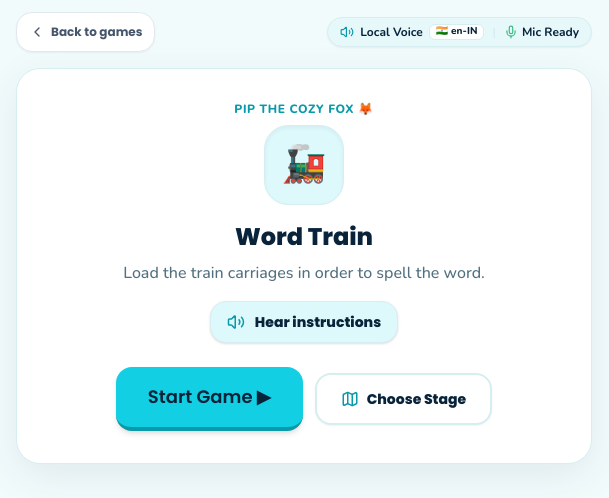
Test: Word Train Game Suite (/child/games/word-train) › 11. undoes a specific placed letter by clicking its train carriage slot directly
The width and height of the screenshot is (609, 498).
Click the button "Start Game ▶" at (209, 399), box [116,367,303,431]
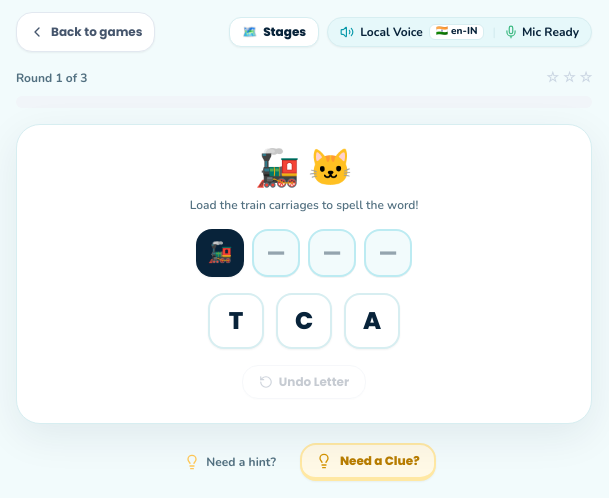
# Place C, then A
Click the button named "Carriage C" at (304, 321), box [276,293,332,349]
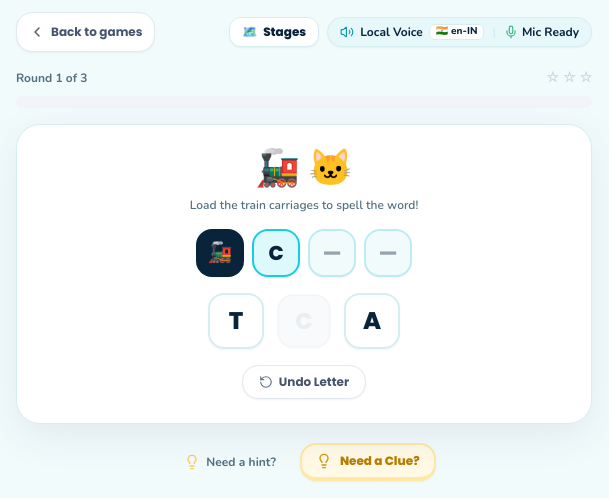
Click the button named "Carriage A" at (372, 321), box [344,293,400,349]
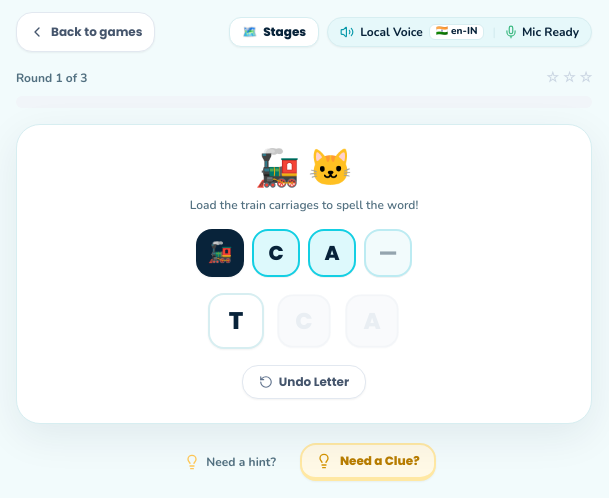
Result: the button named "Slot 1: C" is shown
Result: the button named "Slot 2: A" is shown at [308,229,356,277]
# Click slot 1 (C) directly to remove it
Click the button named "Slot 1: C" at (276, 253), box [252,229,300,277]
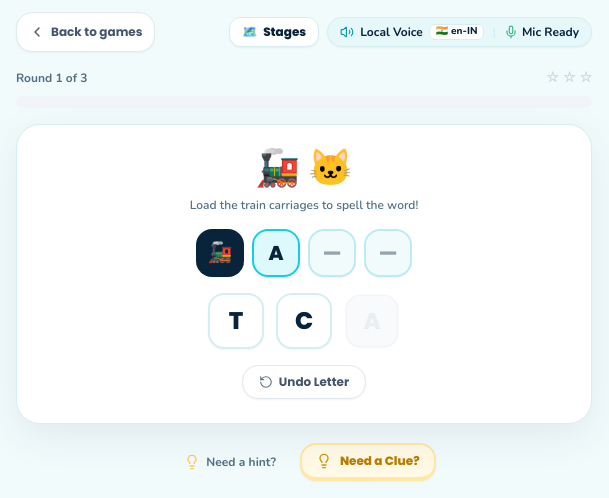
Result: the number of buttons "—" is 2 at [308,229,356,277]; [364,229,412,277]
Result: the button named "Carriage C" is enabled at [276,293,332,349]
Result: the button named "Slot 1: A" is shown at [252,229,300,277]
